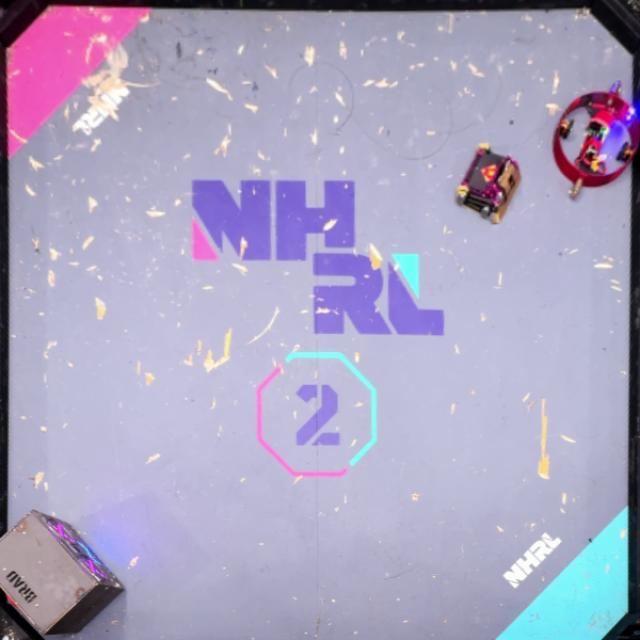housebot: (0, 508, 125, 636)
robot: (554, 80, 640, 200), (457, 143, 521, 224)
